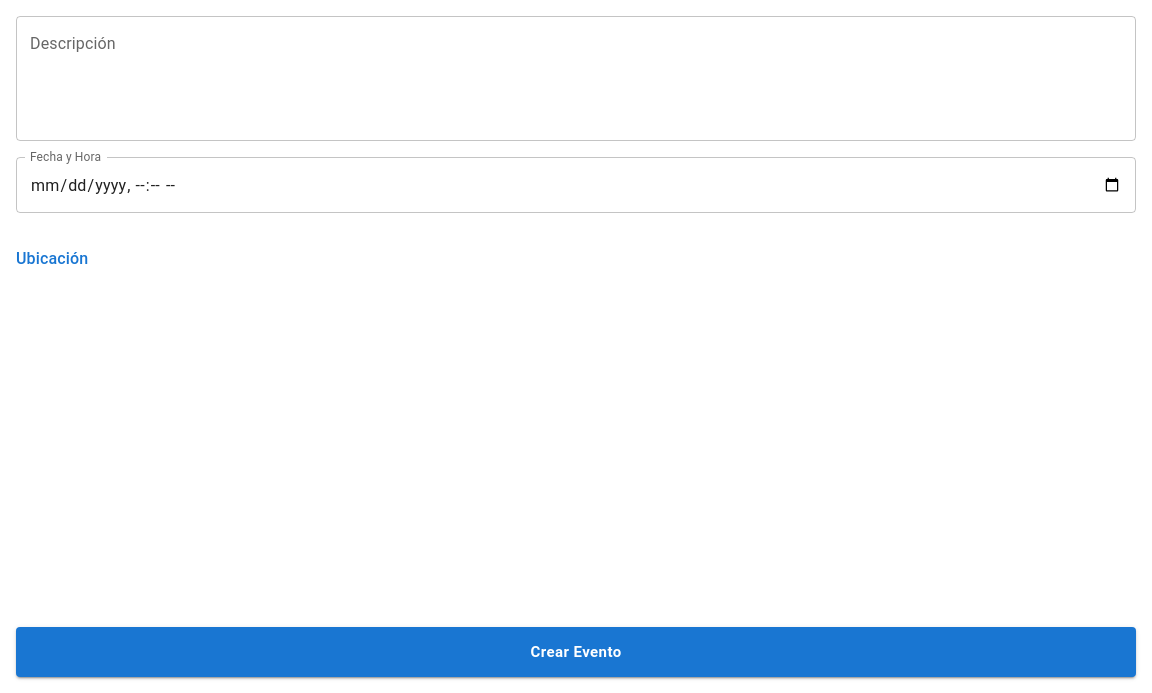
EventForm › shows validation errors
The width and height of the screenshot is (1152, 693).
(page scrolled)
Click the button "Crear Evento".
click(576, 652)  # box x1=16 y1=627 x2=1136 y2=677
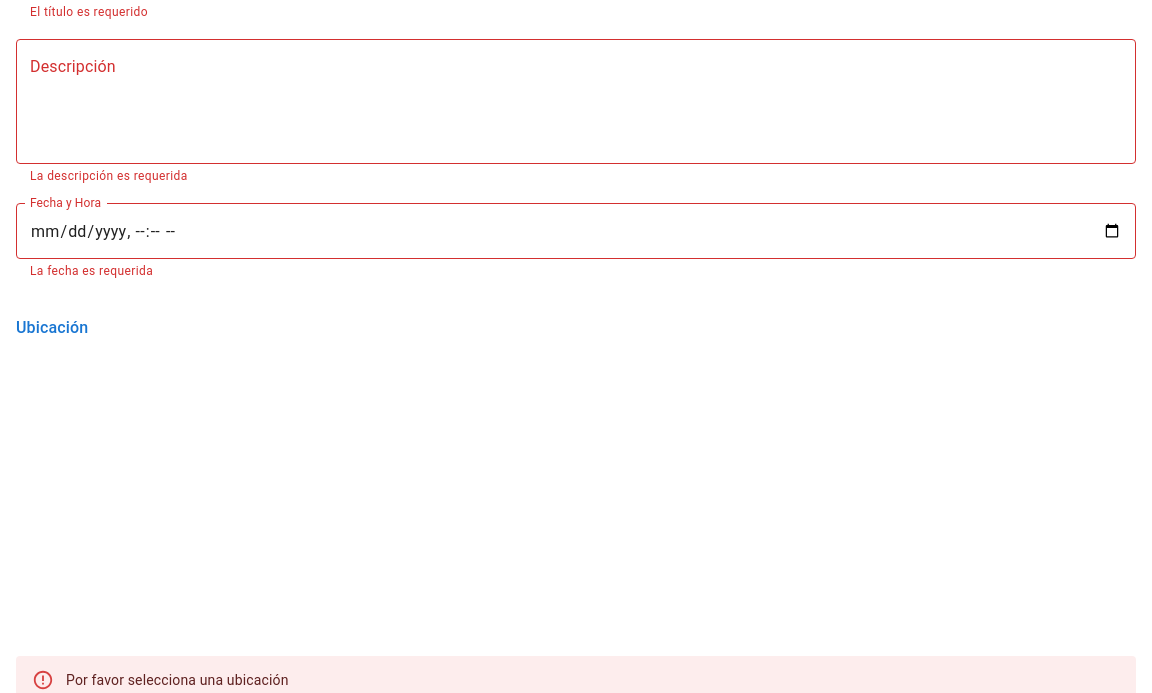
Check: the text "El título es requerido" is shown, box x1=30 y1=5 x2=148 y2=19
Check: the text "La descripción es requerida" is shown, box x1=30 y1=169 x2=188 y2=183
Check: the text "La fecha es requerida" is shown, box x1=30 y1=264 x2=153 y2=278
